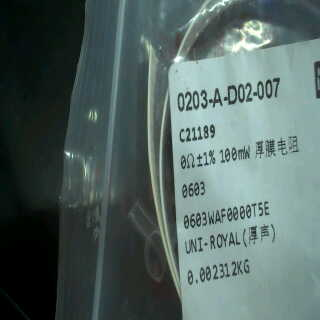0R: (178, 143, 254, 202)
